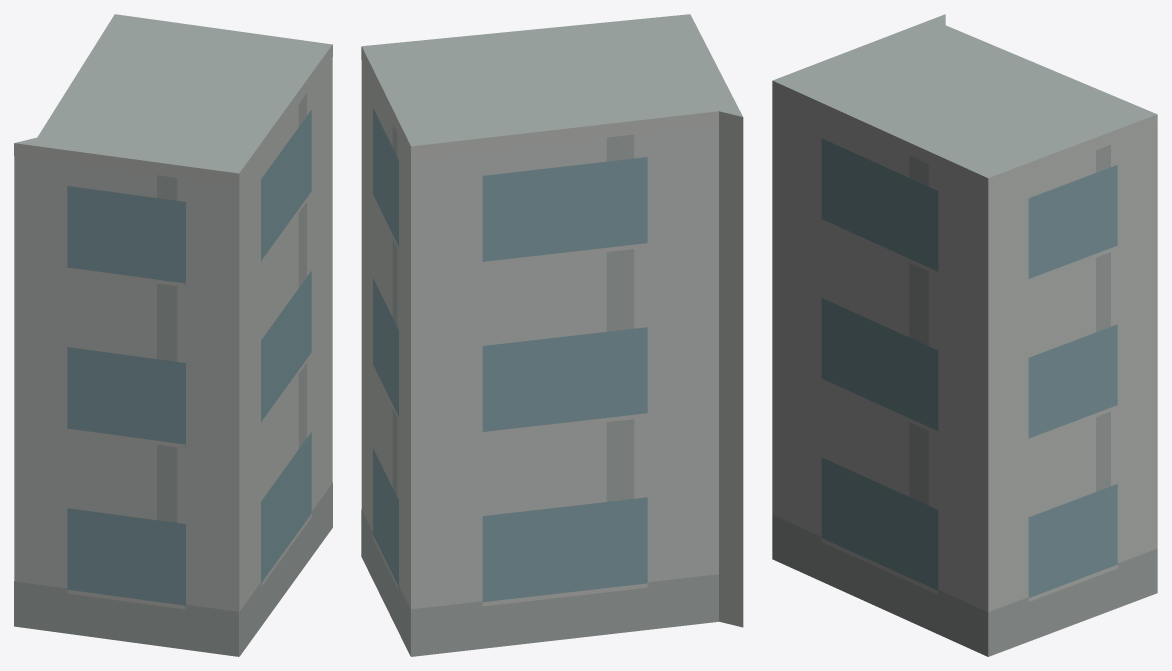
File: survey-upis-32782687.glb
The picture shows the model from 3 angles, left to right: view 1: azimuth 30°, elevation 25°; view 2: azimuth 150°, elevation 25°; view 3: azimuth 270°, elevation 25°; orthographic projection. The views are drawn at different scales.
Parts seen in each view (by area): view 1: survey-upis-32782687.tmp; view 2: survey-upis-32782687.tmp; view 3: survey-upis-32782687.tmp.
Boxes of the visible parts, box(x1,y1,x2,y2) form: survey-upis-32782687.tmp: box(14, 14, 332, 656); survey-upis-32782687.tmp: box(361, 14, 743, 656); survey-upis-32782687.tmp: box(772, 14, 1157, 656).
Bounding box in the file's own units: 6.74 × 9.15 × 6.68.
